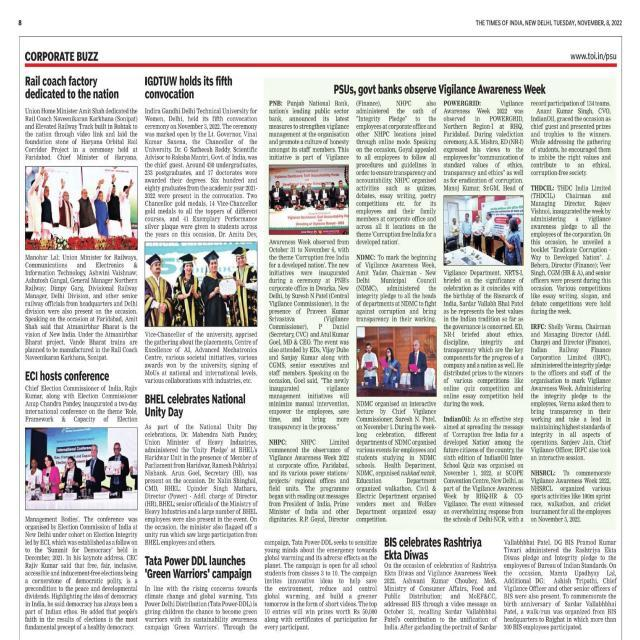Article: (264, 79, 616, 528), (142, 70, 260, 387), (22, 72, 140, 364), (22, 366, 140, 634), (380, 533, 620, 636), (143, 391, 260, 548), (262, 534, 379, 636), (142, 551, 261, 634)
Body: (530, 100, 613, 524), (268, 238, 349, 523), (442, 268, 524, 523), (356, 97, 438, 323), (144, 106, 258, 238), (144, 424, 258, 546), (25, 515, 139, 632), (24, 253, 138, 361), (264, 536, 378, 634), (503, 536, 618, 630), (356, 398, 438, 526), (383, 562, 498, 632), (443, 98, 525, 190), (24, 107, 138, 162), (144, 330, 258, 384), (143, 585, 260, 631), (268, 100, 350, 162), (24, 384, 138, 424)
Date: (554, 18, 623, 26)
Heading: (142, 553, 252, 582), (332, 82, 548, 96), (144, 392, 246, 418), (383, 535, 483, 560), (23, 76, 120, 100), (145, 74, 234, 98), (24, 369, 110, 382)
Image: (144, 242, 258, 326), (25, 428, 137, 511), (26, 167, 138, 250), (444, 195, 524, 265), (356, 326, 436, 396), (270, 164, 348, 234)
Name: (25, 49, 99, 62), (474, 19, 522, 27)
